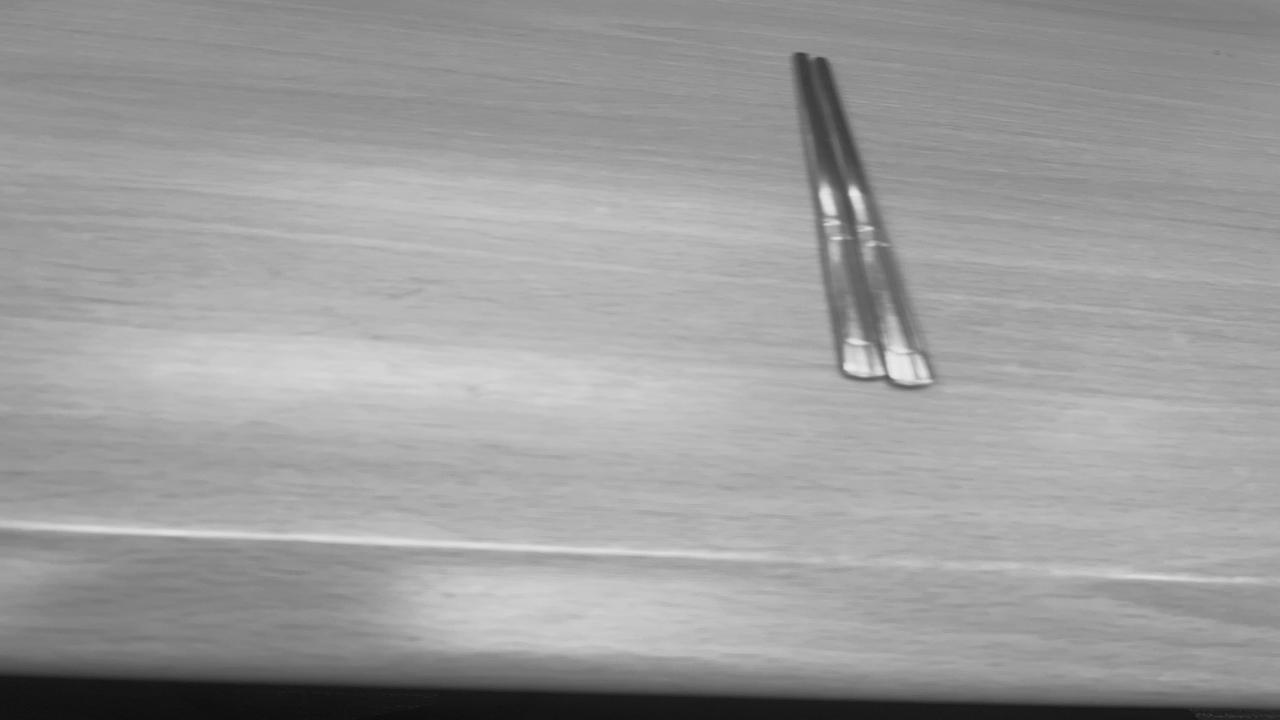chopstick: (794, 53, 929, 385)
